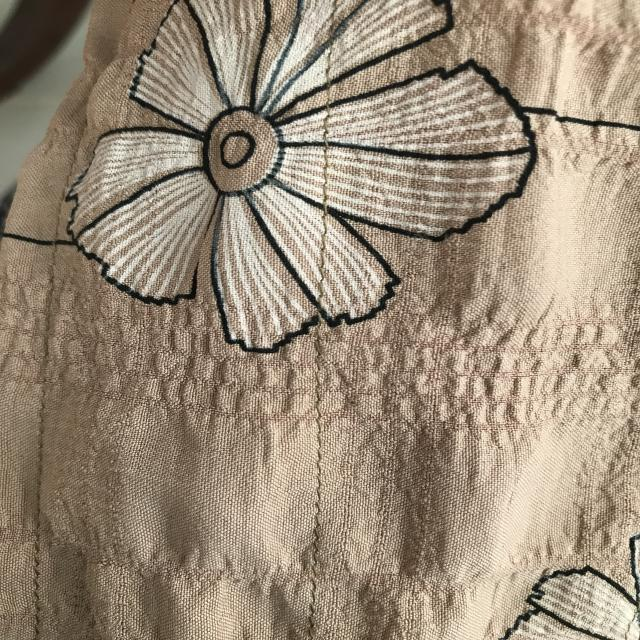good: (290, 408, 346, 555), (314, 220, 344, 289), (318, 152, 332, 197)
